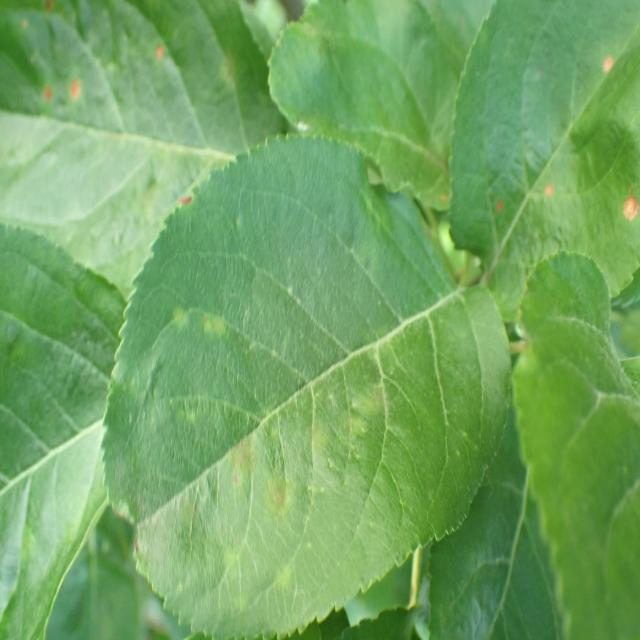Black Rot: (609, 180, 640, 256), (597, 41, 617, 99), (541, 175, 564, 211)
scab: (149, 279, 407, 600)
